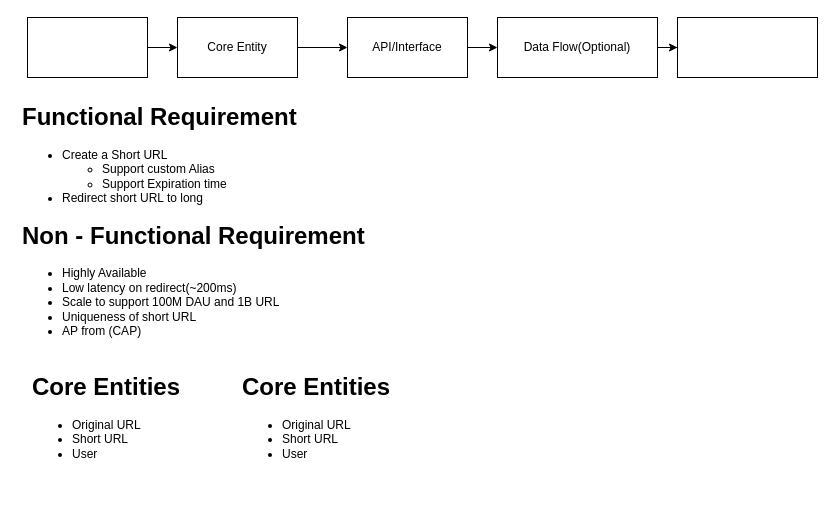
The diagram is 835 pixels wide and 505 high, and some of its shapes have lost their labels. Each missing label, with the centre of its shape:
"Deep Dive" belongs at [747,47].
"Requirement" belongs at [87,47].
